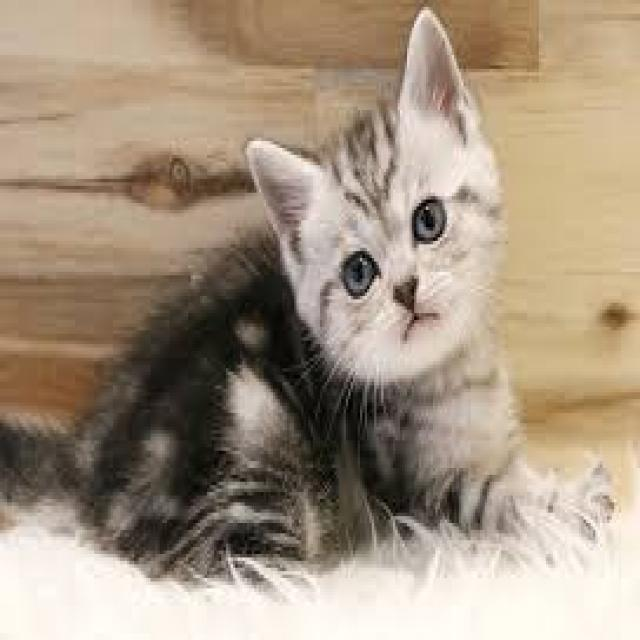cat-face: (222, 4, 558, 418)
